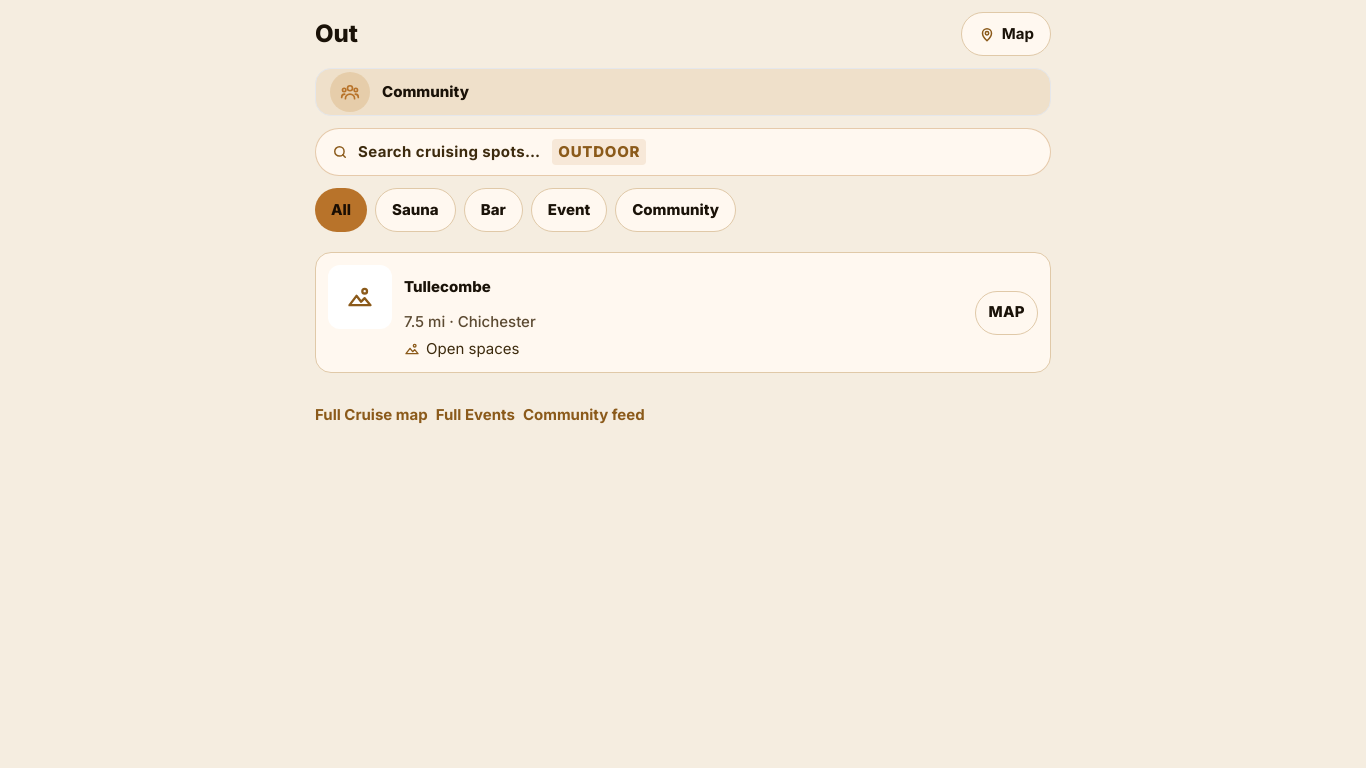
Out list refreshes after a check-in from the spot sheet › check-in re-reads the list and shows the server count
This screenshot has width=1366, height=768.
Click the button "Tullecombe".
click(447, 286)  # box 404,265 -> 963,309
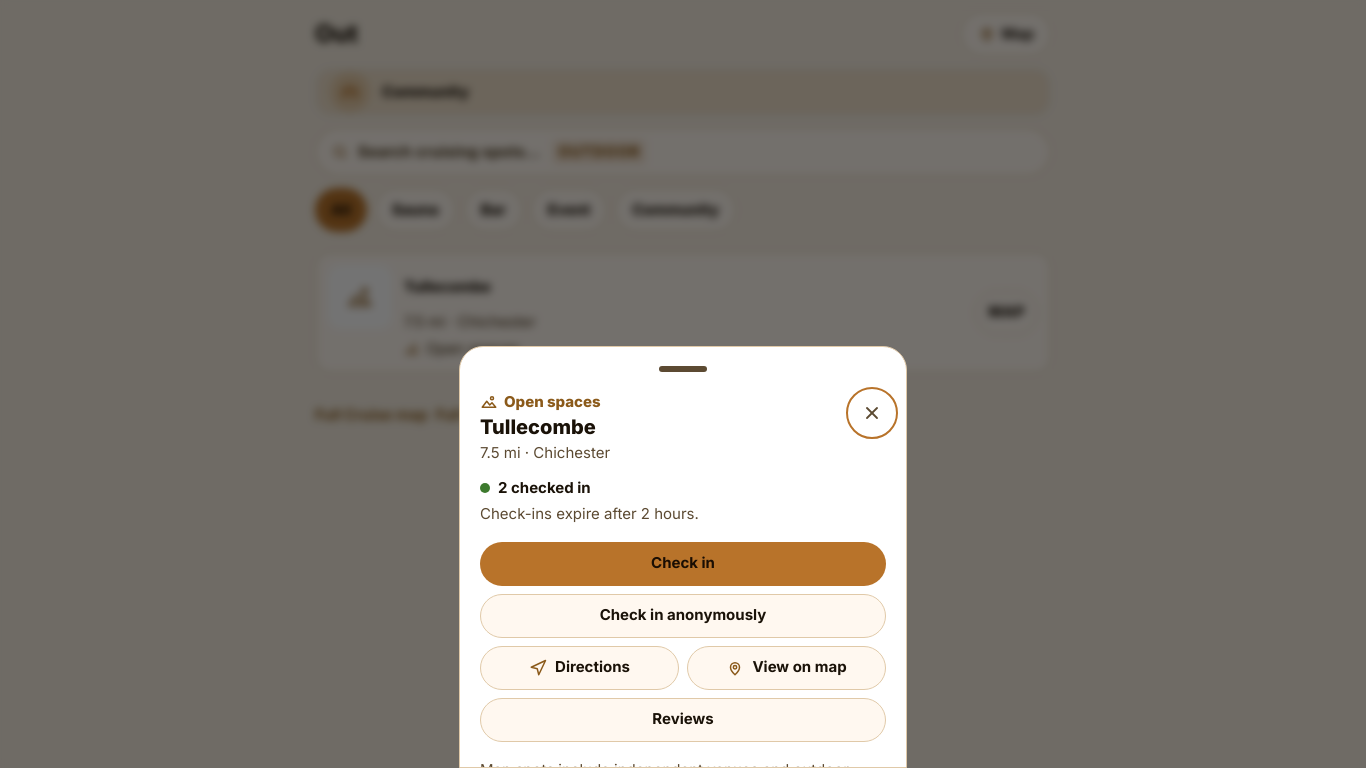
Click the button with test id "hotspot-sheet-checkin".
click(683, 564)  # box 480,542 -> 886,586
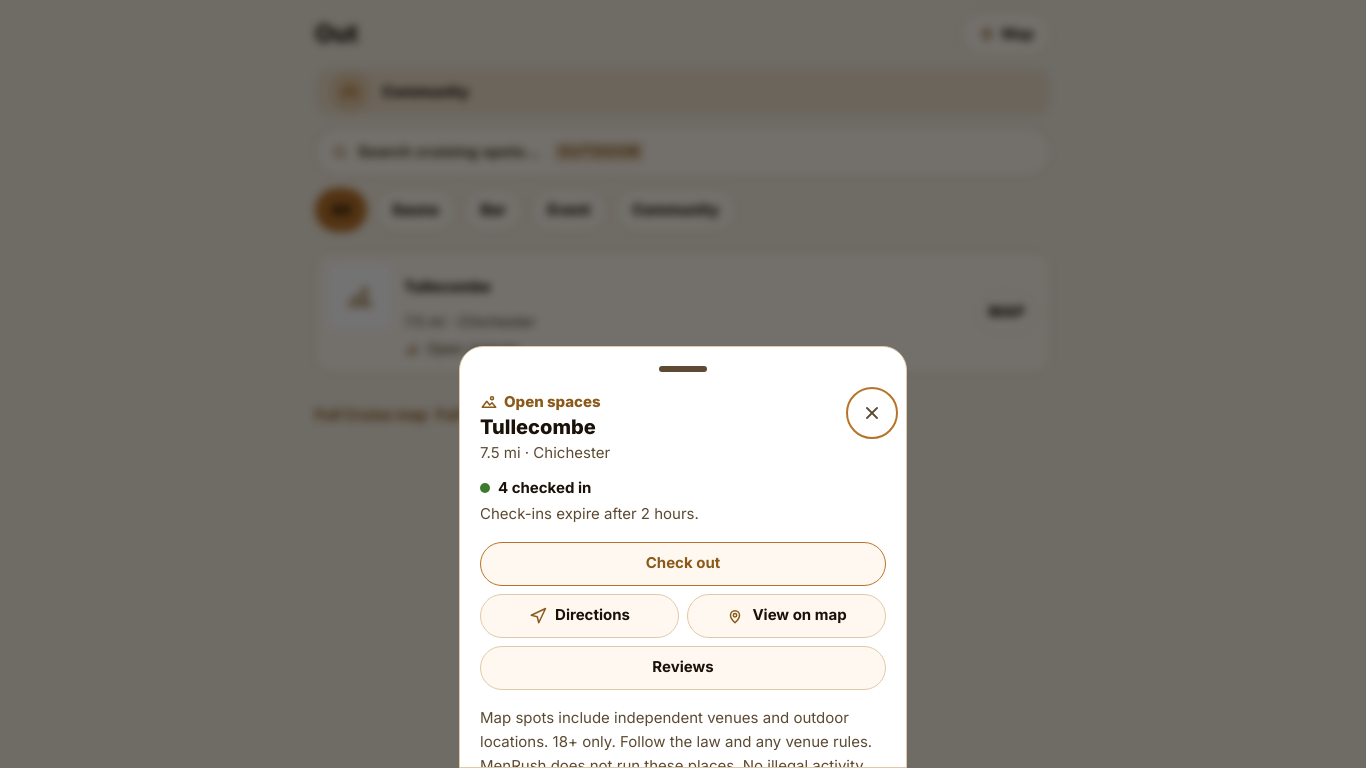
Check: the dialog with test id "hotspot-sheet" is shown, box 459,346 -> 907,767
Check: the element with test id "hotspot-sheet-activity" reads "4 checked in", box 498,478 -> 591,497
Check: the button with test id "hotspot-sheet-checkout" is shown, box 480,542 -> 886,586
